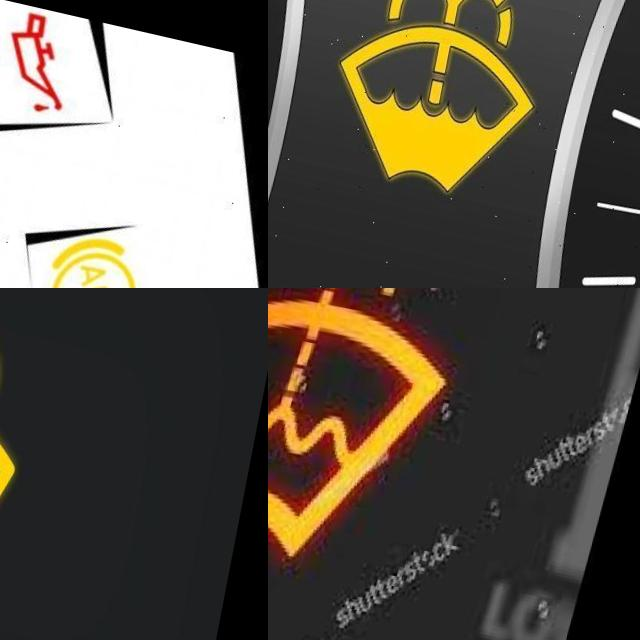Washer Fluid: (268, 288, 473, 561), (0, 288, 50, 613)
